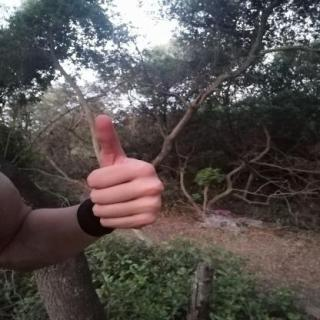ALIF: (68, 106, 173, 234)
